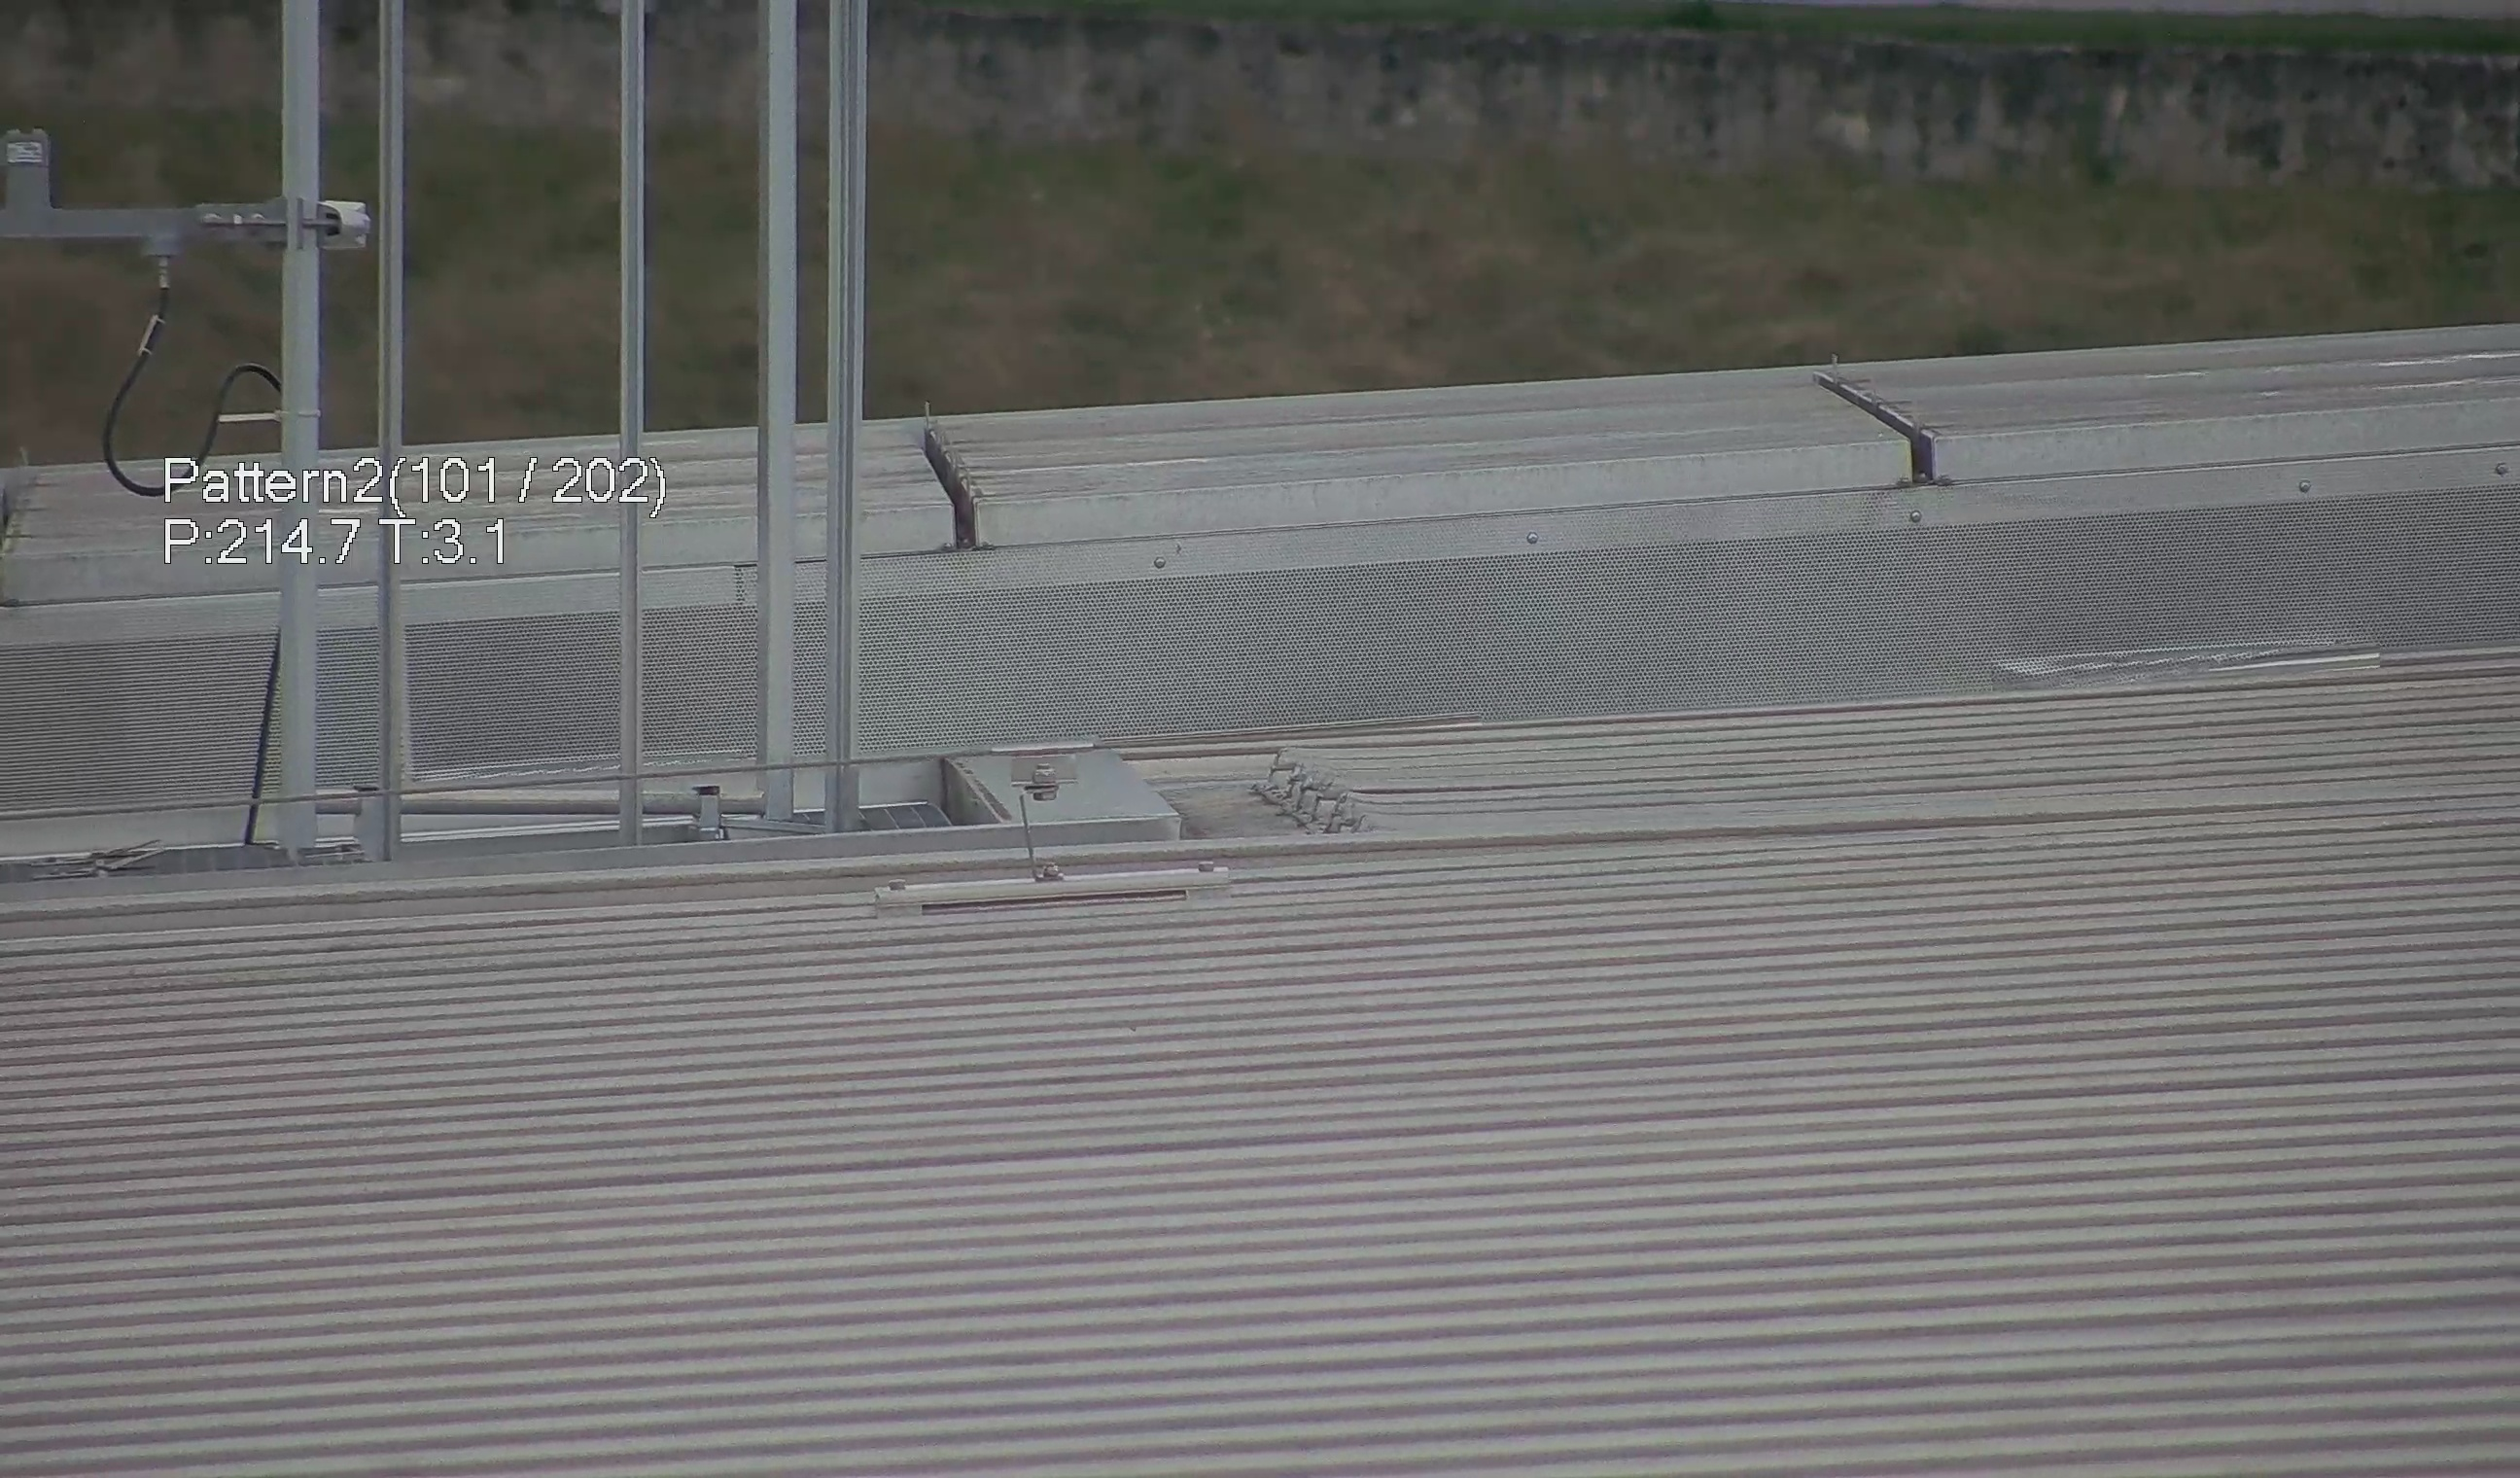Other: (897, 403, 992, 551)
